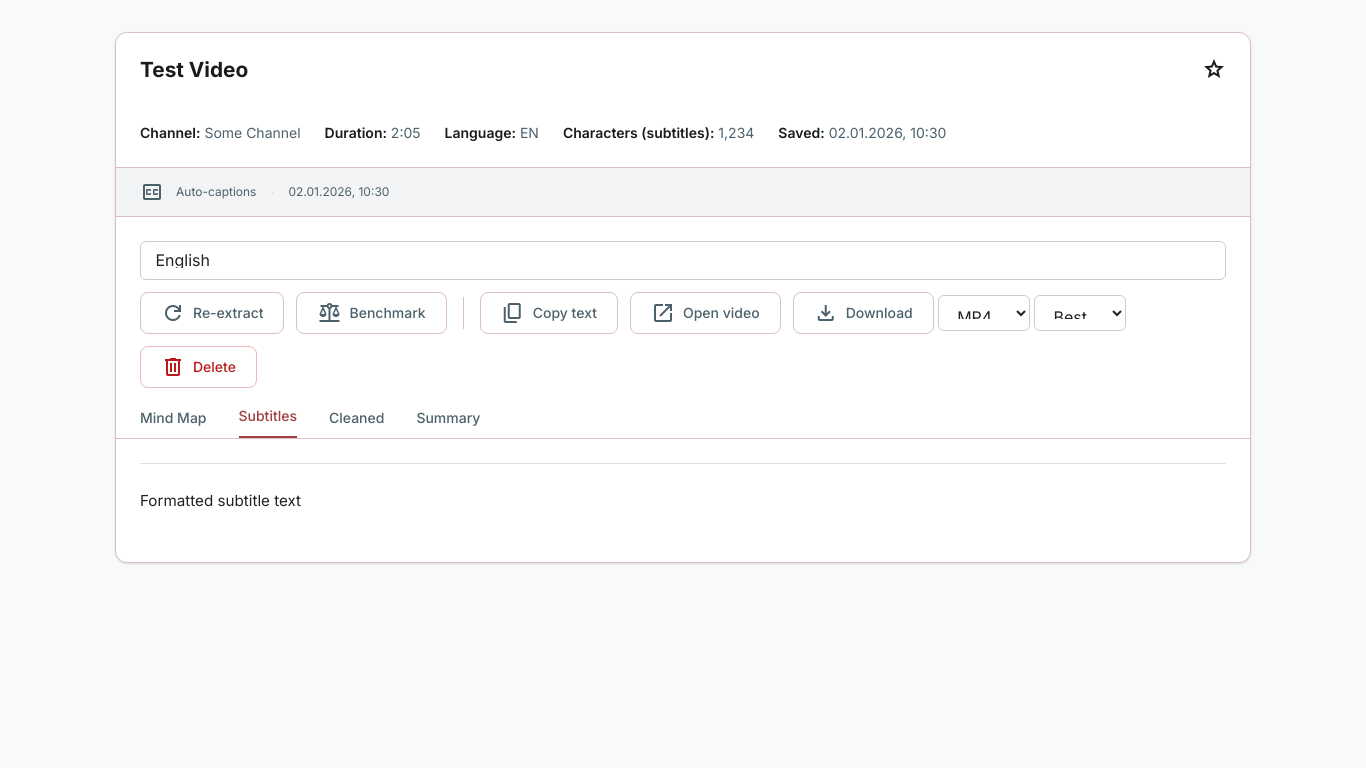
ResultPage › Cleaned tab: empty state and Clean with AI queues the cleanup through the endpoint (one path, NS-11 stage 4a)
Expected: the heading "Test Video" is shown, [140,57,248,82]
Click the button "Cleaned" at (357,424), box [329,410,384,438]
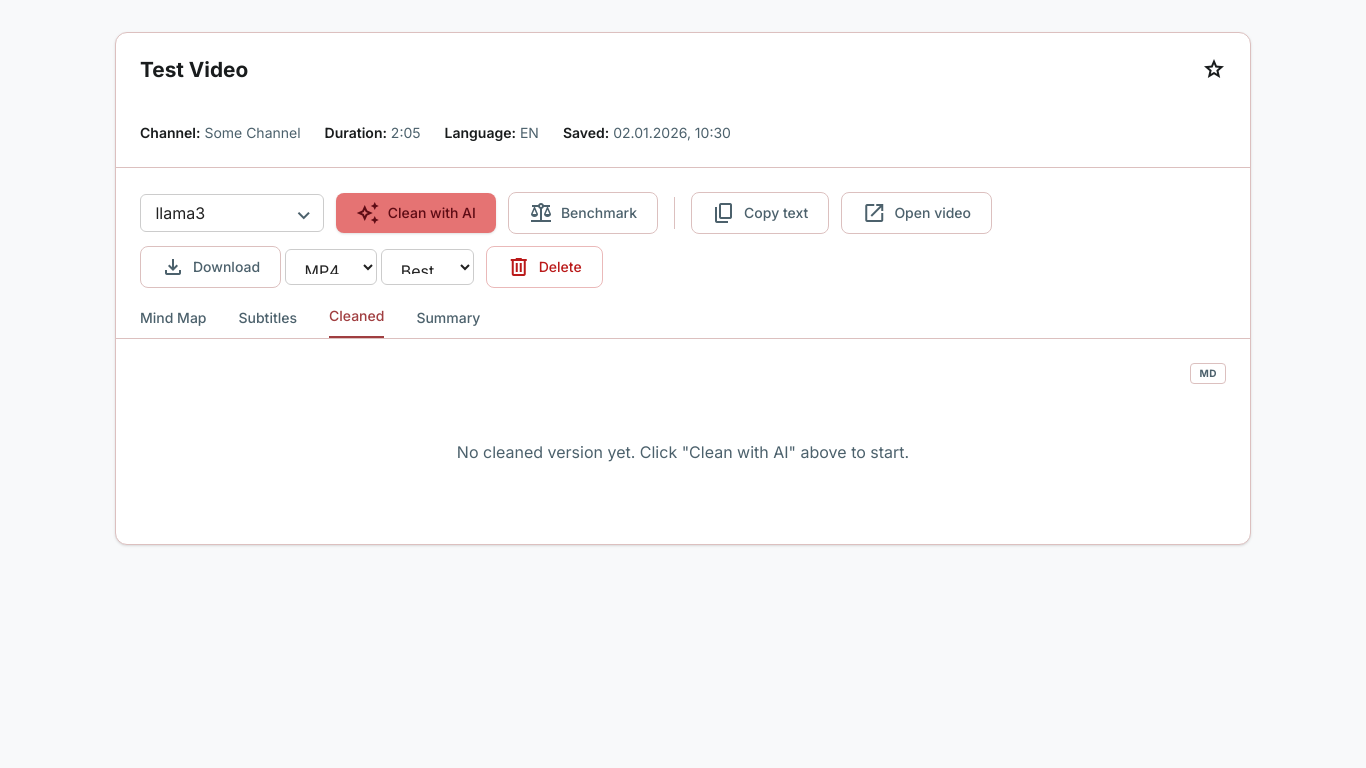
Expected: the text "No cleaned version yet" is shown, [457,442,909,462]
Click the button "Clean with AI" at (416,213), box [336,193,496,233]
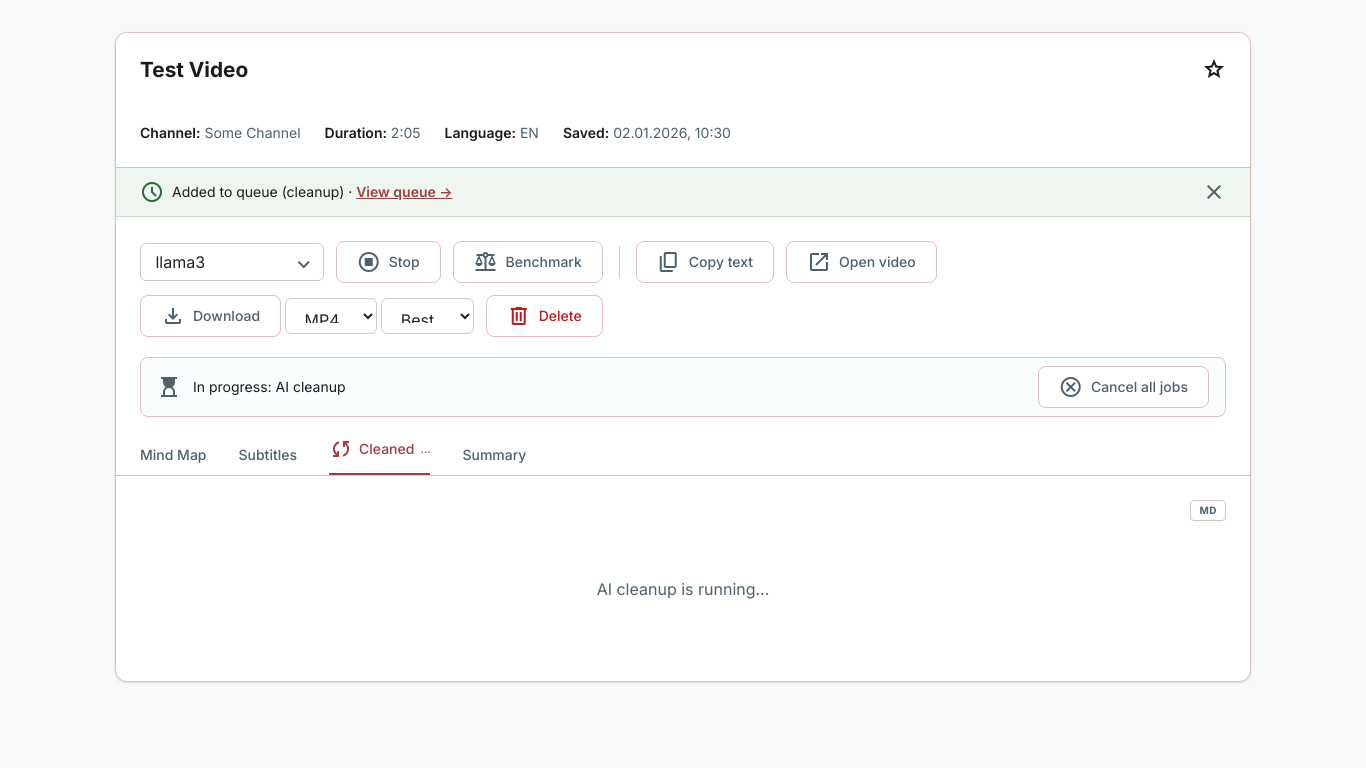
Expected: the text "Added to queue (cleanup) · View queue →" is shown, [172,182,453,202]
